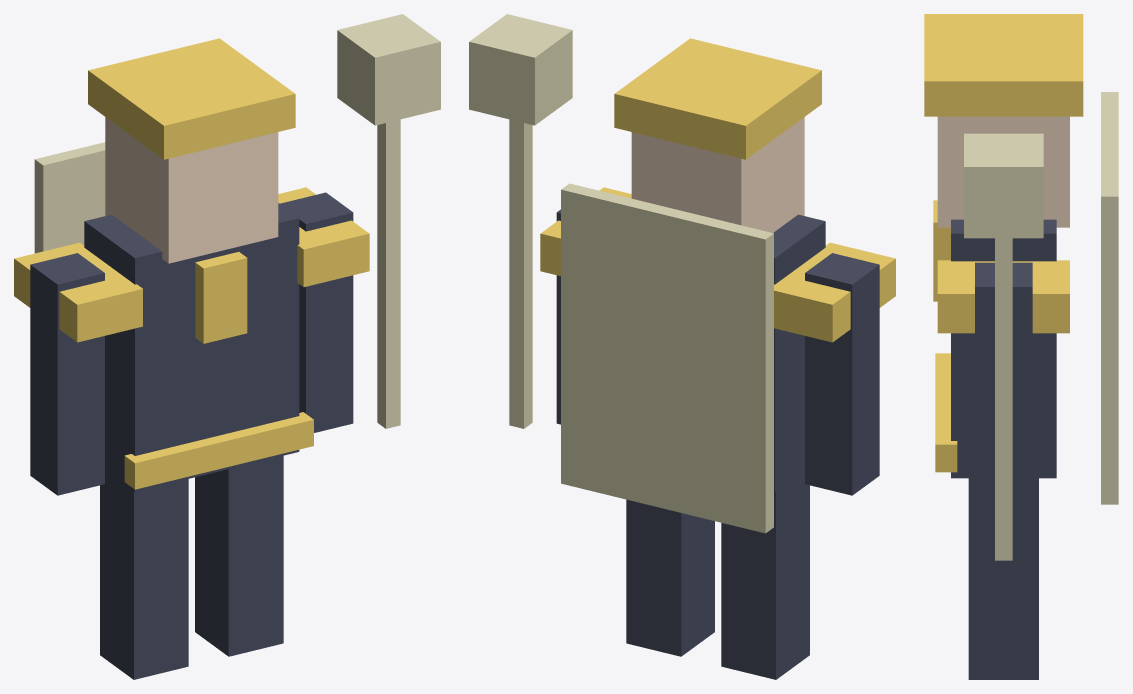
File: 10_vela_gearmantle_scout_from_kill.glb
3 views of the same model, side by side, from view 1: azimuth 30°, elevation 25°; view 2: azimuth 150°, elevation 25°; view 3: azimuth 270°, elevation 25° (orthographic). The views are drawn at different scales.
Parts seen in each view (by area): view 1: Vela Gearmantle, Scout from Kill; view 2: Vela Gearmantle, Scout from Kill; view 3: Vela Gearmantle, Scout from Kill.
Part boxes in pixels (bbox=[...]): Vela Gearmantle, Scout from Kill: bbox=[14, 14, 440, 679]; Vela Gearmantle, Scout from Kill: bbox=[469, 14, 895, 679]; Vela Gearmantle, Scout from Kill: bbox=[924, 14, 1118, 679].
Bounding box in the file's own units: 1.05 × 1.5 × 0.4452.
